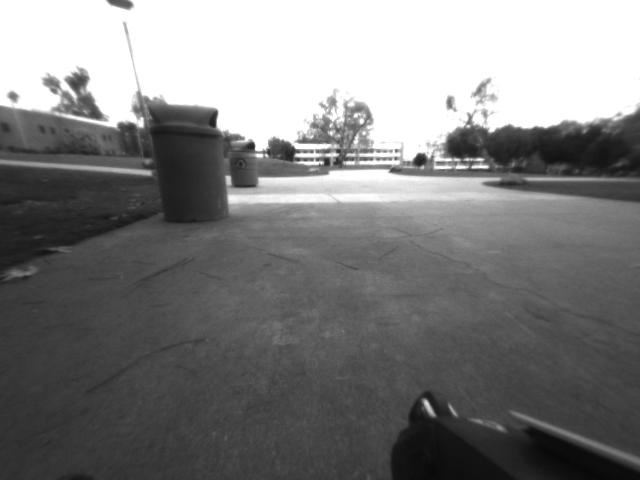trashcan: (145, 99, 238, 227)
